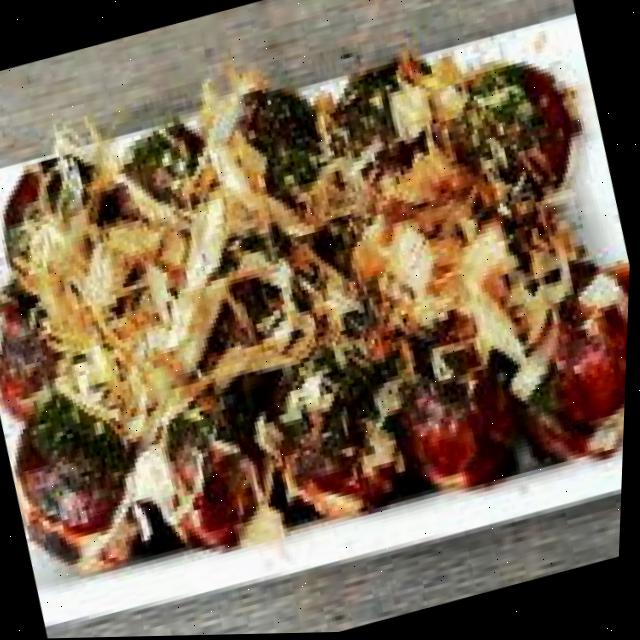炸货点心: (0, 211, 634, 640)
